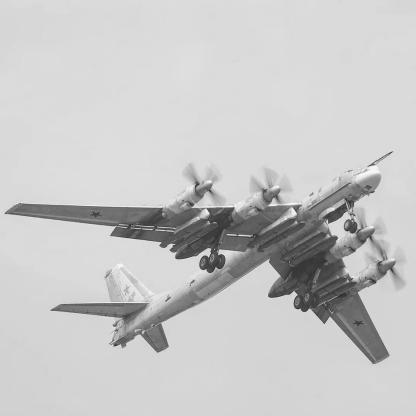Tu95: (5, 151, 408, 366)
